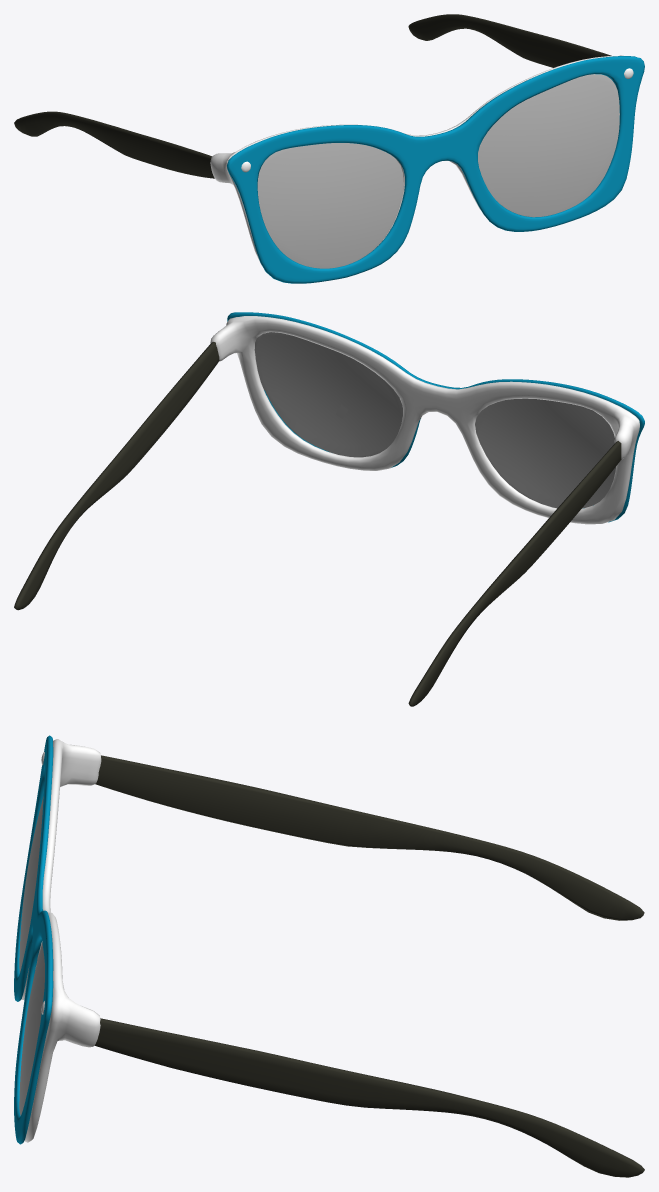
The model's file is barrillas_DonFroySunglasses.fbx.
3 renders of one model, top to bottom at view 1: azimuth 30°, elevation 25°; view 2: azimuth 150°, elevation 25°; view 3: azimuth 270°, elevation 25°, orthographic. The views are drawn at different scales.
Visible parts, largest first — view 1: cristales_DonFroy, armazon_DonFroy, patitaD_DonFroy, patitaI_DonFroy, baseArmazon_DonFroy; view 2: cristales_DonFroy, baseArmazon_DonFroy, patitaI_DonFroy, patitaD_DonFroy, armazon_DonFroy; view 3: patitaD_DonFroy, patitaI_DonFroy, baseArmazon_DonFroy, armazon_DonFroy, cristales_DonFroy.
Part boxes in pixels (x1=…): cristales_DonFroy: x1=257, y1=74, x2=619, y2=268; armazon_DonFroy: x1=227, y1=56, x2=644, y2=283; patitaD_DonFroy: x1=14, y1=111, x2=214, y2=178; patitaI_DonFroy: x1=408, y1=14, x2=611, y2=67; baseArmazon_DonFroy: x1=210, y1=55, x2=633, y2=264; cristales_DonFroy: x1=254, y1=332, x2=615, y2=508; baseArmazon_DonFroy: x1=210, y1=316, x2=639, y2=524; patitaI_DonFroy: x1=14, y1=342, x2=219, y2=610; patitaD_DonFroy: x1=408, y1=441, x2=621, y2=706; armazon_DonFroy: x1=227, y1=312, x2=644, y2=522; patitaD_DonFroy: x1=95, y1=755, x2=644, y2=920; patitaI_DonFroy: x1=94, y1=1018, x2=644, y2=1177; baseArmazon_DonFroy: x1=21, y1=739, x2=101, y2=1142; armazon_DonFroy: x1=14, y1=735, x2=53, y2=1144; cristales_DonFroy: x1=19, y1=796, x2=44, y2=1115.
Size of the model in its own units: 2616 by 880 by 2566.
